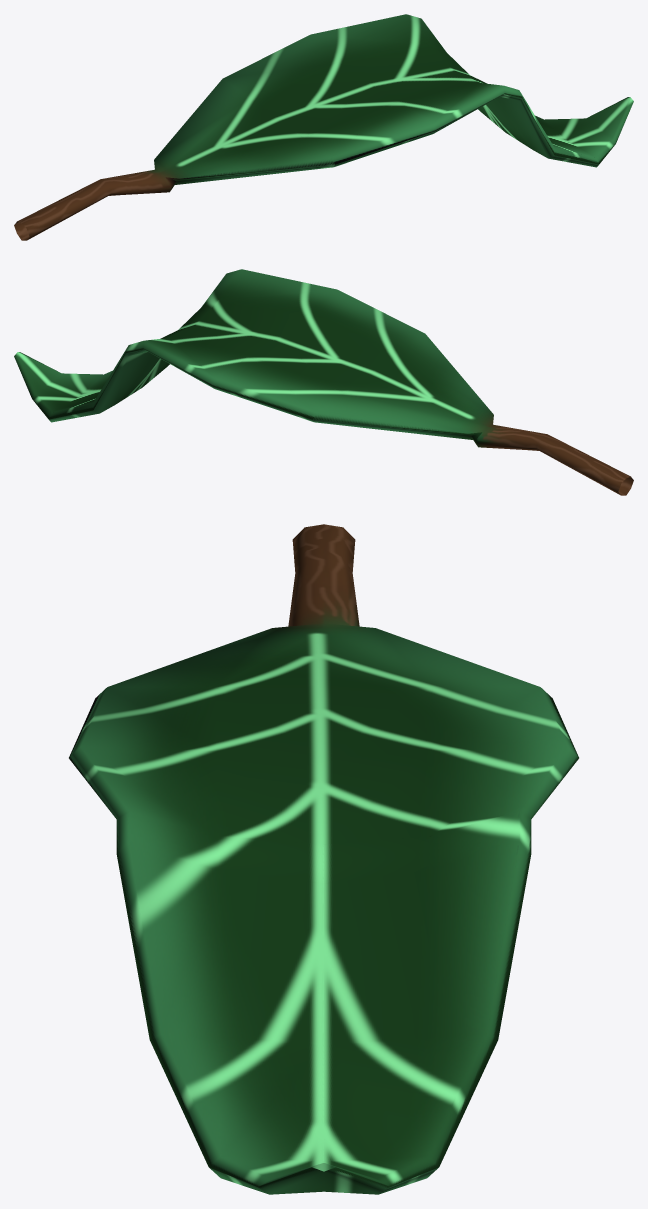
Rendered from Leaf-Large-2.fbx.
3 views of the same model, one above another, from view 1: azimuth 30°, elevation 25°; view 2: azimuth 150°, elevation 25°; view 3: azimuth 270°, elevation 25° (orthographic). The views are drawn at different scales.
Visible parts, largest first — view 1: Leaf-Large-2.001; view 2: Leaf-Large-2.001; view 3: Leaf-Large-2.001.
Boxes of the visible parts, x1,y1,x2,y2 form: Leaf-Large-2.001: (14,14,633,240); Leaf-Large-2.001: (14,269,633,495); Leaf-Large-2.001: (69,524,578,1194).
Size of the model in its own units: 1767 by 352 by 641.
